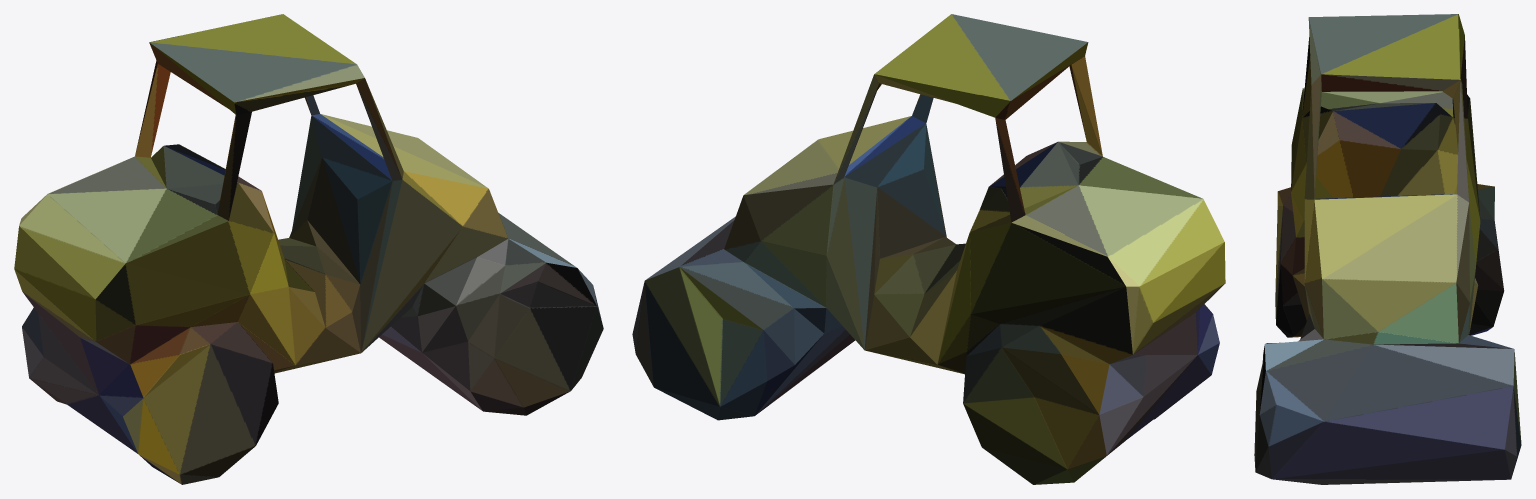
The model's file is steamroller.fbx.
3 renders of one model, left to right at view 1: azimuth 30°, elevation 25°; view 2: azimuth 150°, elevation 25°; view 3: azimuth 270°, elevation 25°, orthographic. The views are drawn at different scales.
Visible parts, largest first — view 1: Mesh_0; view 2: Mesh_0; view 3: Mesh_0.
Boxes of the visible parts, x1=… form: Mesh_0: x1=14, y1=14, x2=603, y2=484; Mesh_0: x1=632, y1=14, x2=1225, y2=484; Mesh_0: x1=1254, y1=14, x2=1521, y2=484.
Size of the model in its own units: 119 by 85.48 by 60.99.
Materials: 1 (1 with a texture image).
